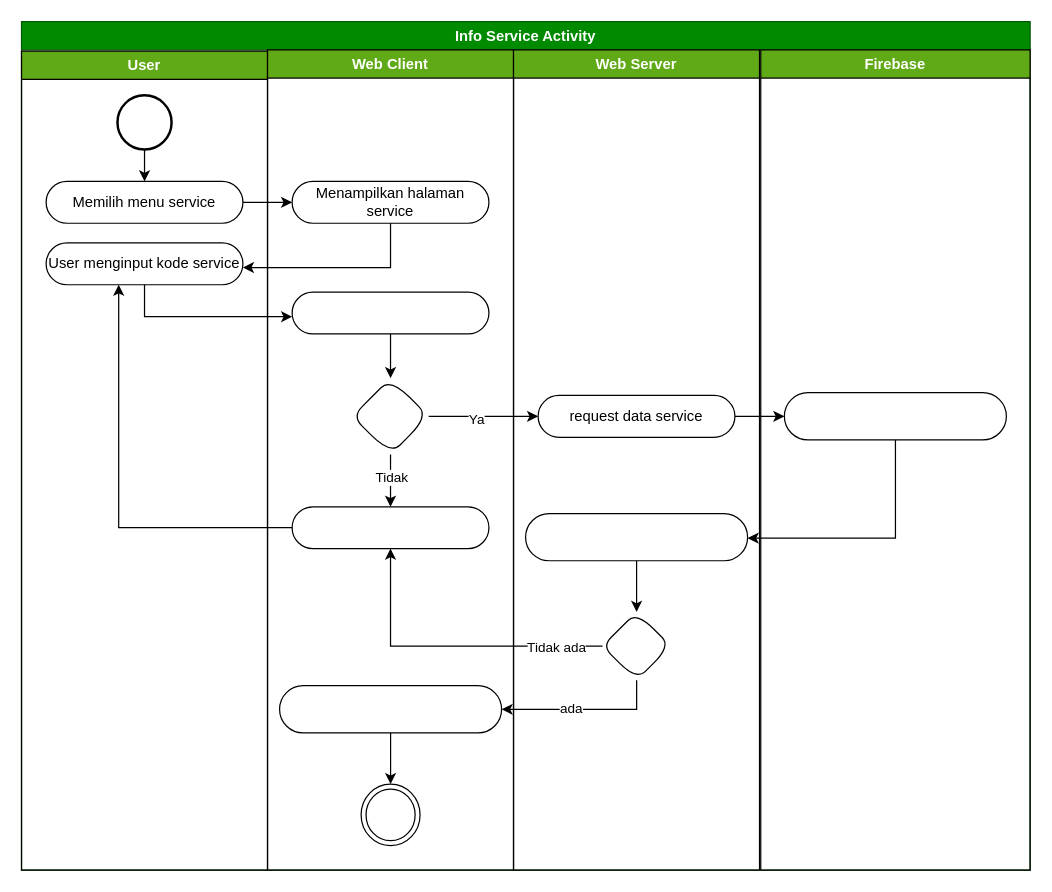
Some shapes in this 1052 by 892 pixel diagram are drawn without their labels. The shapes that lost their labels are listed below. From the top down, each one's centre as x and y in pixels, then its label:
pixel 390 312: Validai Input
pixel 894 416: get data by kode service
pixel 390 527: Menampilkan eror
pixel 636 536: Memeriksa respond
pixel 390 708: Menampilkan data service
